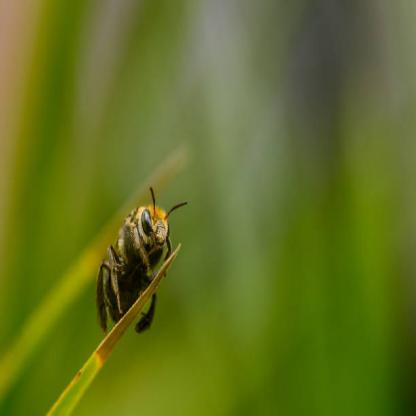sawfly: (90, 179, 192, 342)
